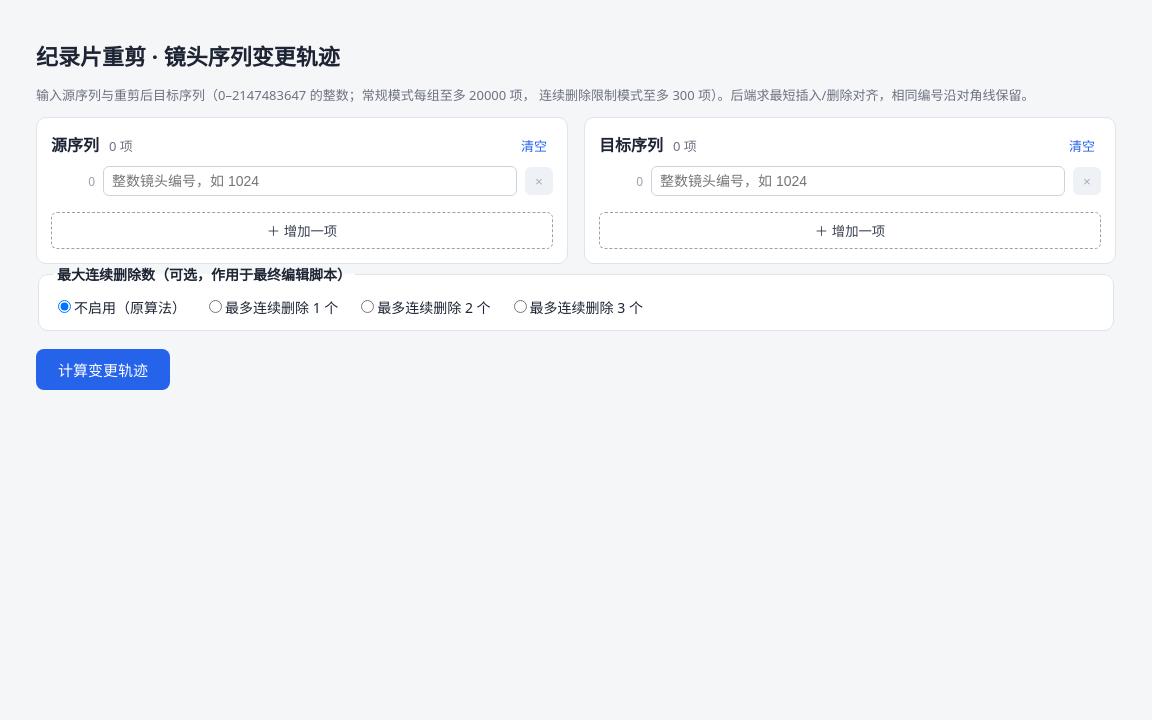
Test case: 最大连续删除模式 › 约束模式无解时显示明确错误，不保留旧块或可审批差异
Step 1. Click the button with test id "compare" → (103, 370), box [36,350,170,390]
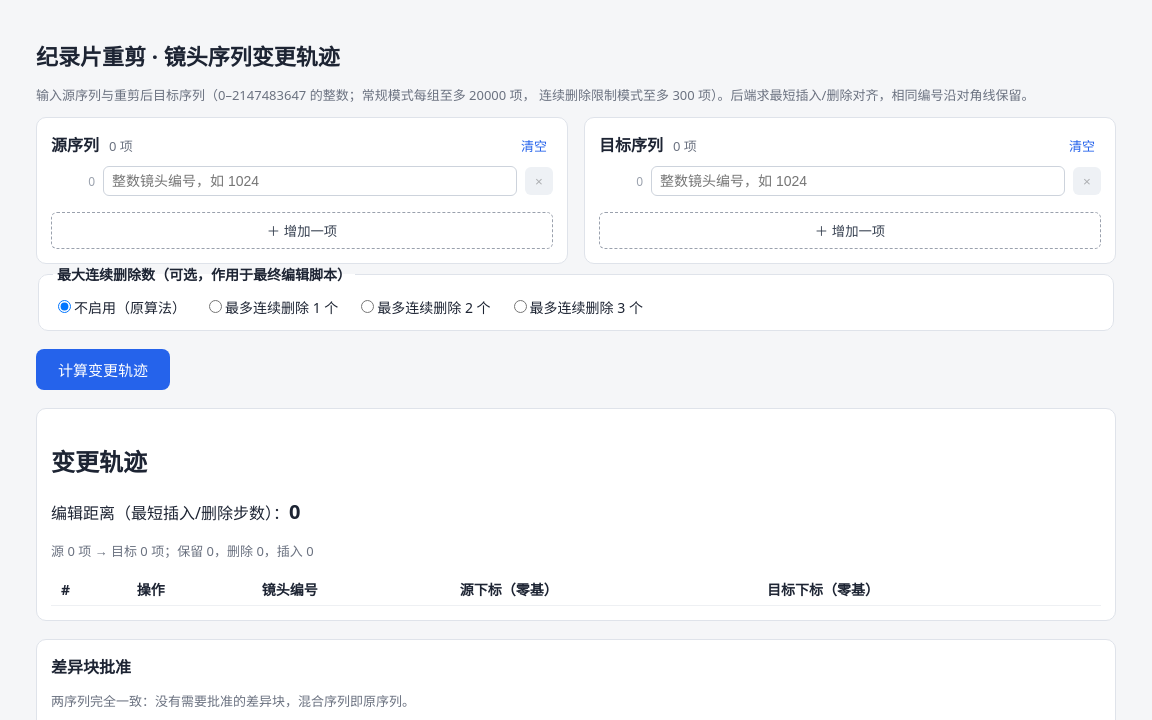
Step 2. Click the radio button with test id "limit-2" → (368, 307), box [361,300,374,314]
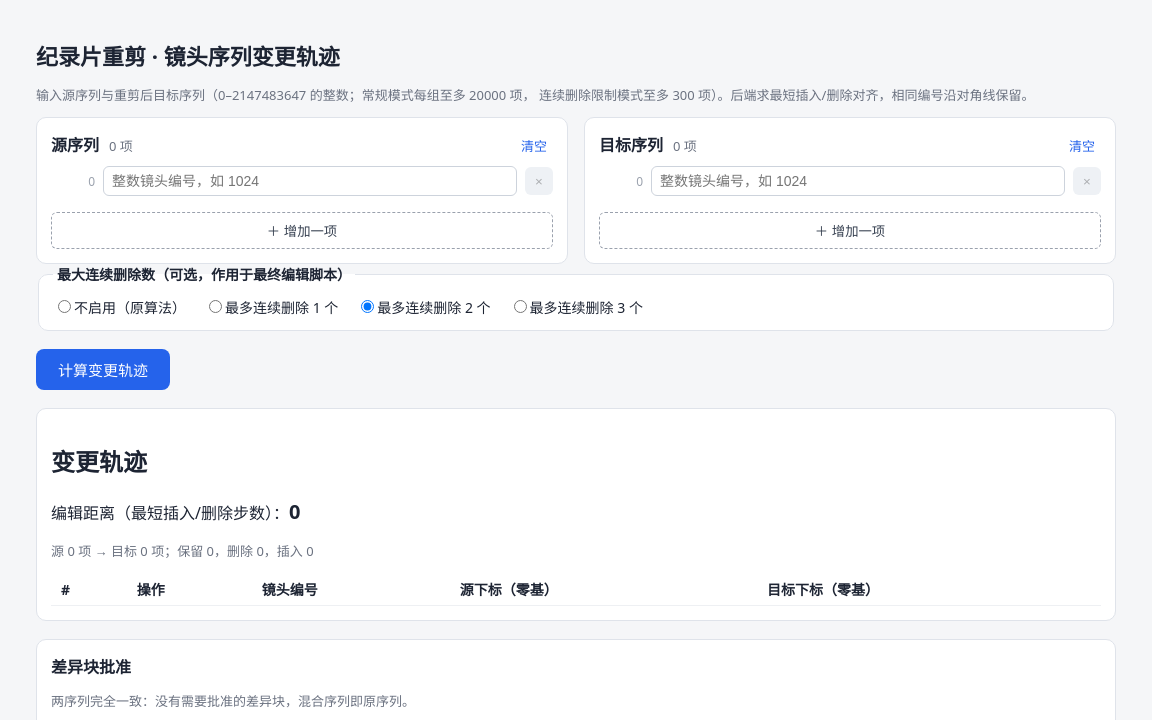
Step 3. Click the button with test id "compare" → (103, 370), box [36,350,170,390]
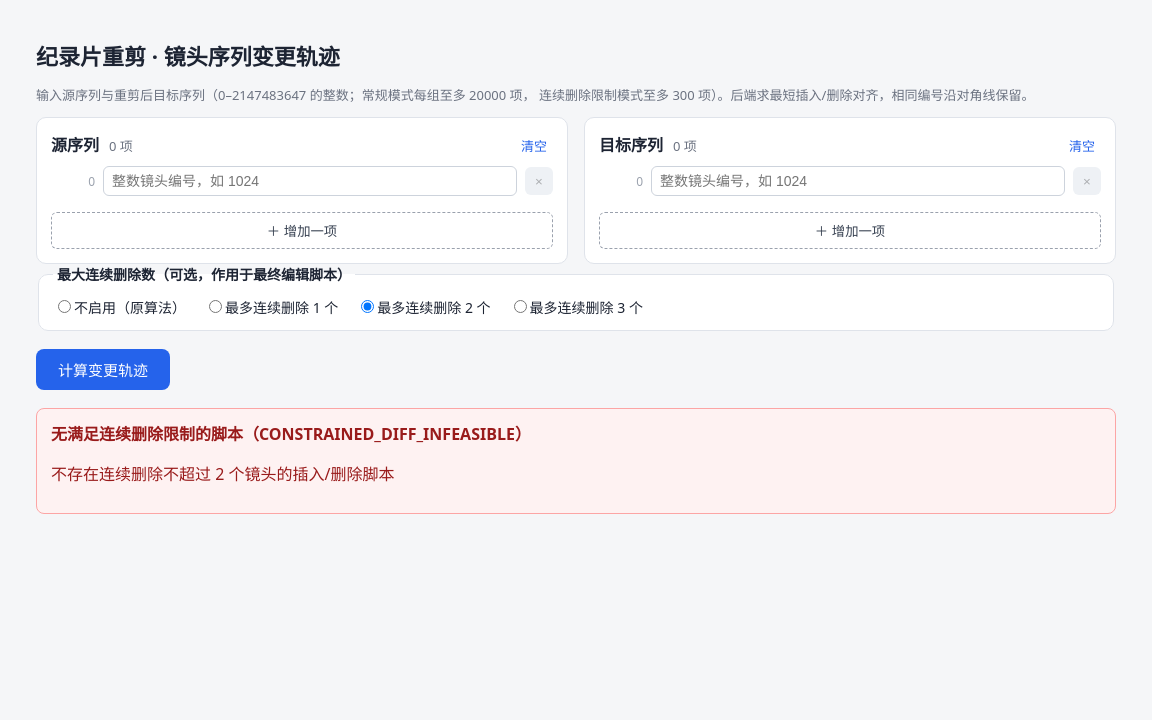
Result: the message "无满足连续删除限制的脚本（CONSTRAINED_DIFF_INFEASIBLE） 不存在连续删除不超过 2 个镜头的插入/删除脚本" is shown at [36,408,1116,514]
Result: the message with test id "error-banner" shows "CONSTRAINED_DIFF_INFEASIBLE" at [51,424,531,446]
Result: the element with test id "result-view" is gone
